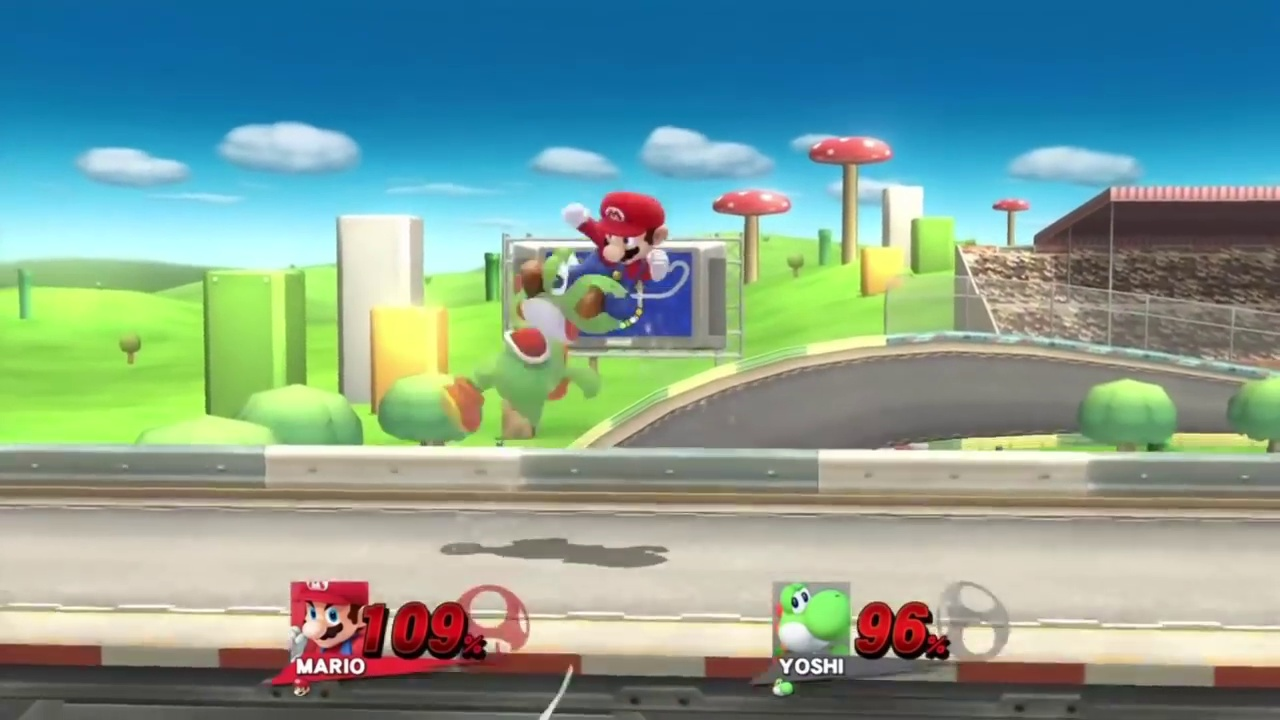Mario: (528, 191, 673, 315)
